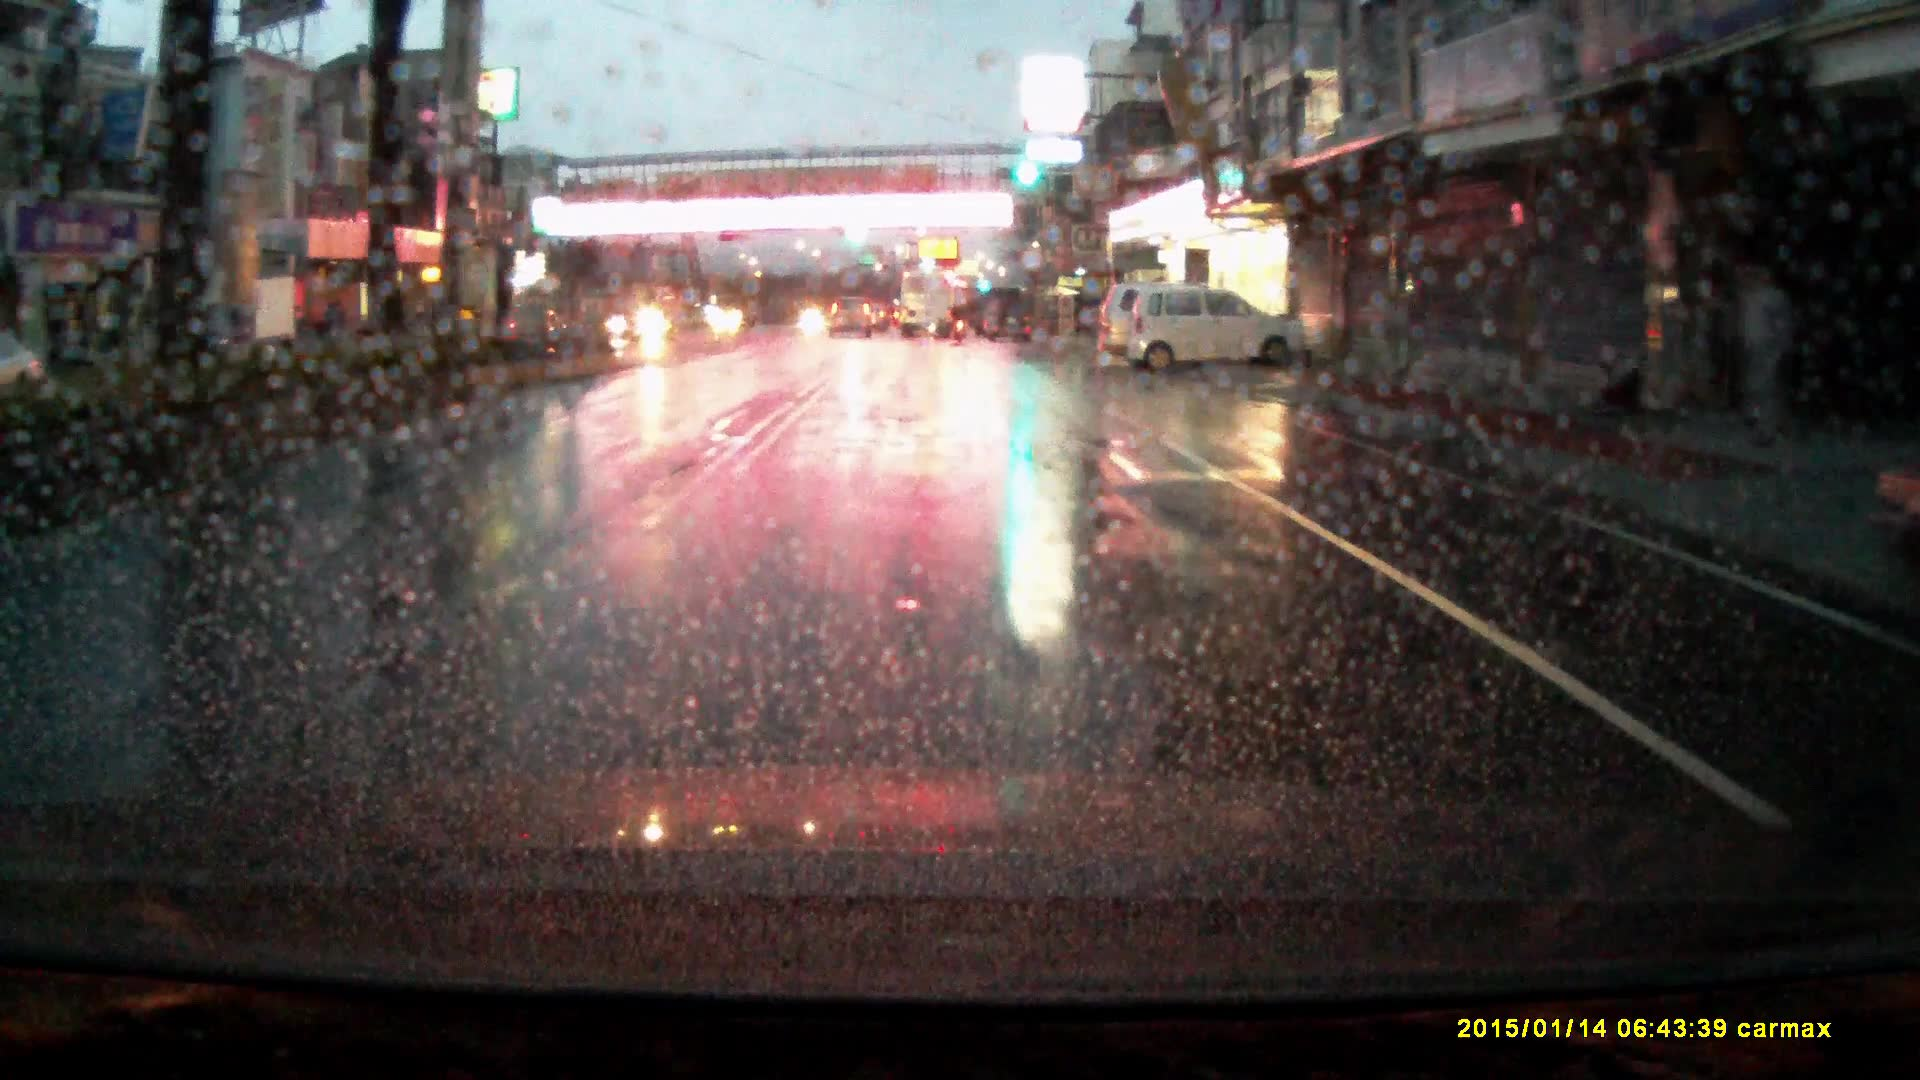rider: (952, 301, 972, 347)
vehicle: (1125, 286, 1306, 375), (174, 283, 287, 365), (1096, 287, 1203, 368), (607, 291, 685, 347), (900, 274, 950, 343), (1, 326, 50, 395), (984, 297, 1034, 346), (829, 301, 872, 345)
